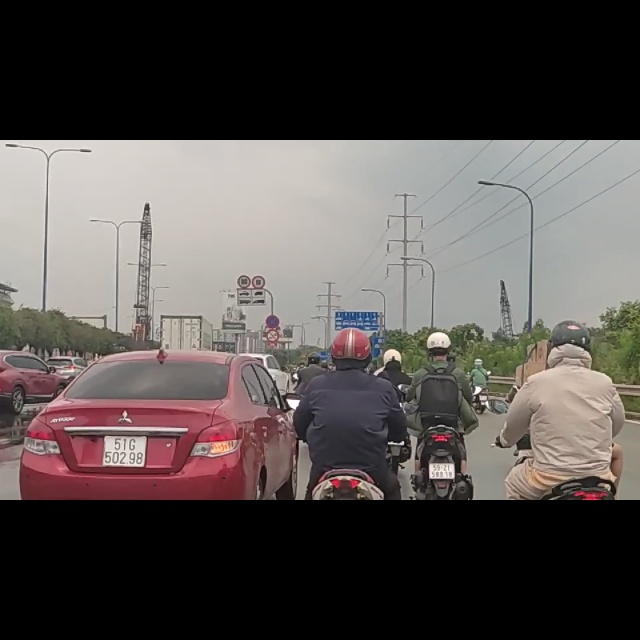bien_cam: (265, 311, 280, 335)
